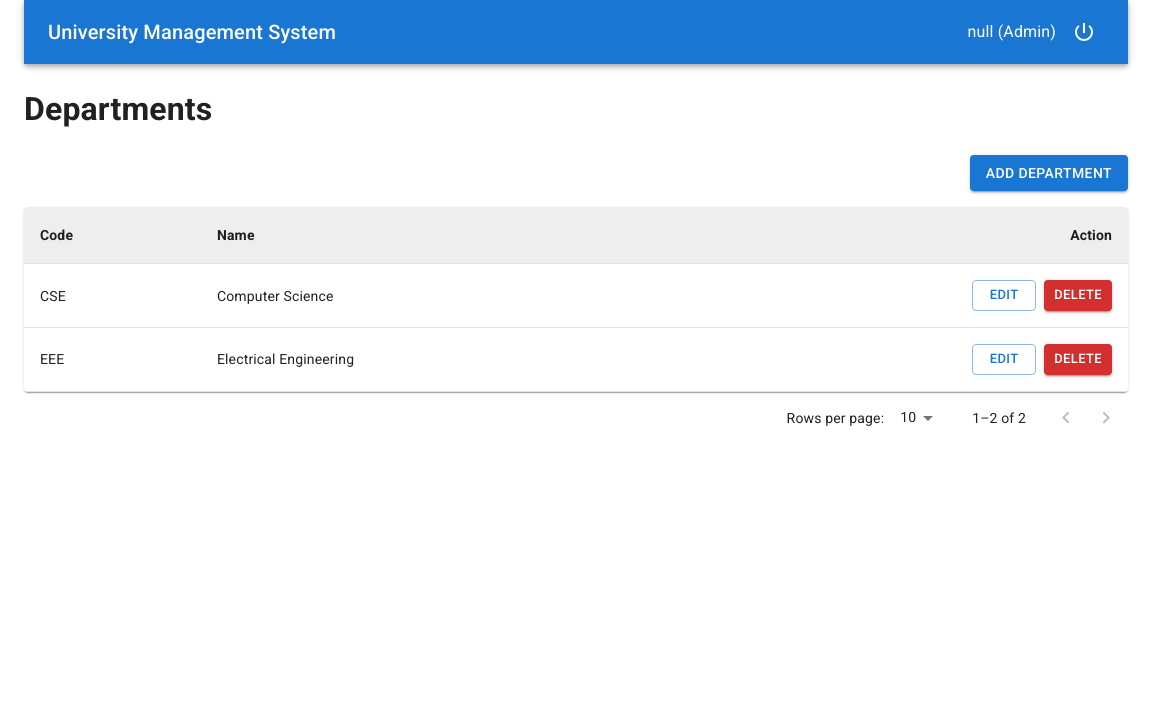
Test case: DepartmentPage › opens the edit dialog with prefilled values when Edit is clicked
The image size is (1152, 720).
Expected: the text "Computer Science" is shown, [201,264,661,328]
Click the button "Edit" in the row of "CSE" at (1004, 296), box [972,280,1036,311]
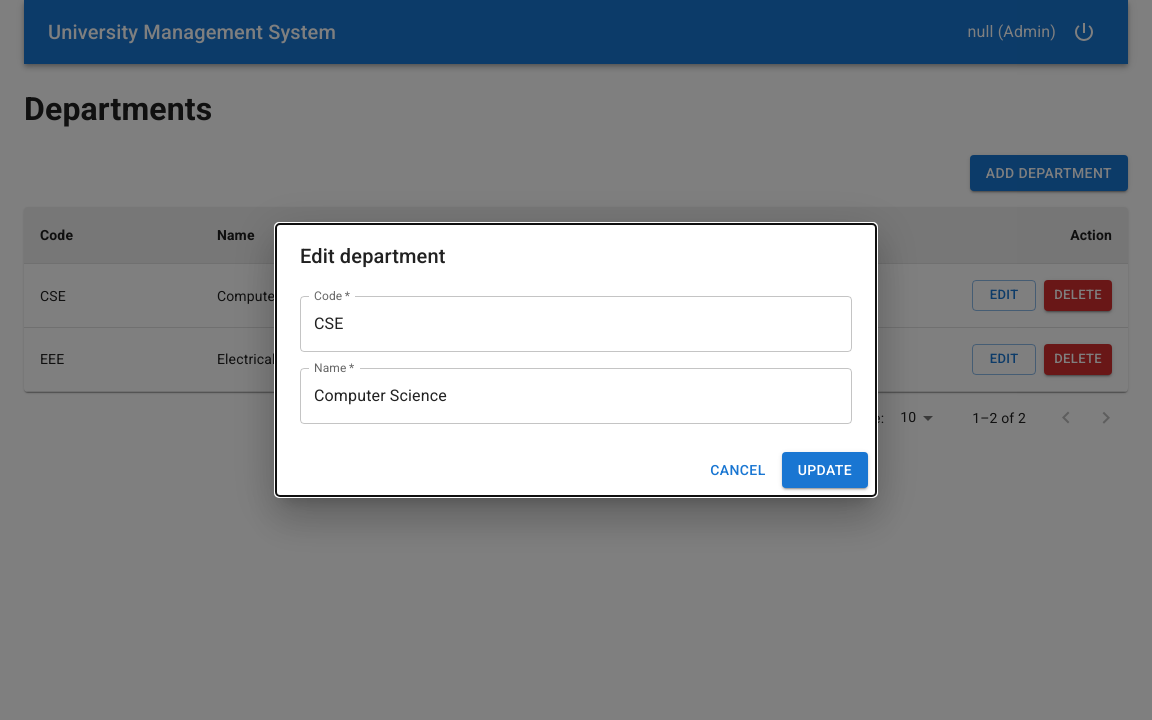
Expected: the heading "Edit department" is shown, [300,244,446,268]
Expected: the field labelled "Code *" holds "CSE", [300,296,852,352]
Expected: the field labelled "Name *" holds "Computer Science", [300,368,852,424]
